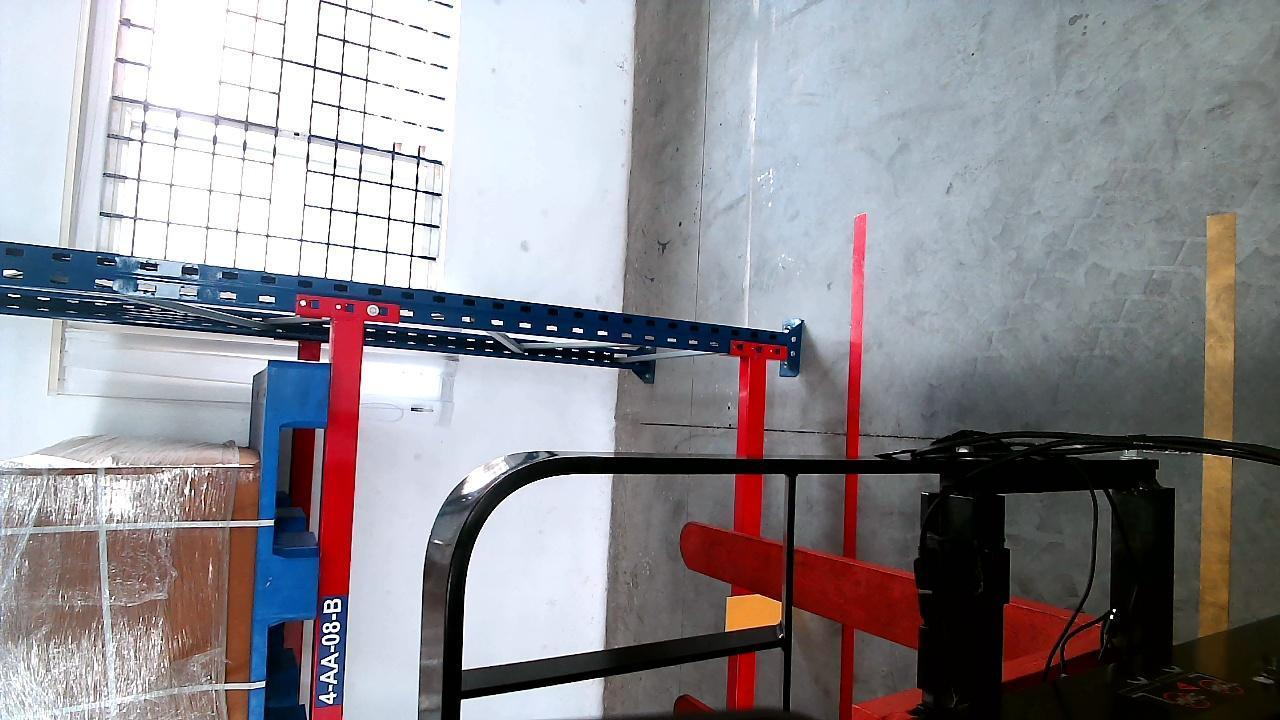h_rack: (315, 326, 364, 720), (736, 358, 770, 715)
orange_strip: (723, 592, 787, 631)
red_line: (846, 220, 868, 462)
small_pallet: (252, 360, 328, 720)
yellow_line: (1201, 201, 1234, 632)
